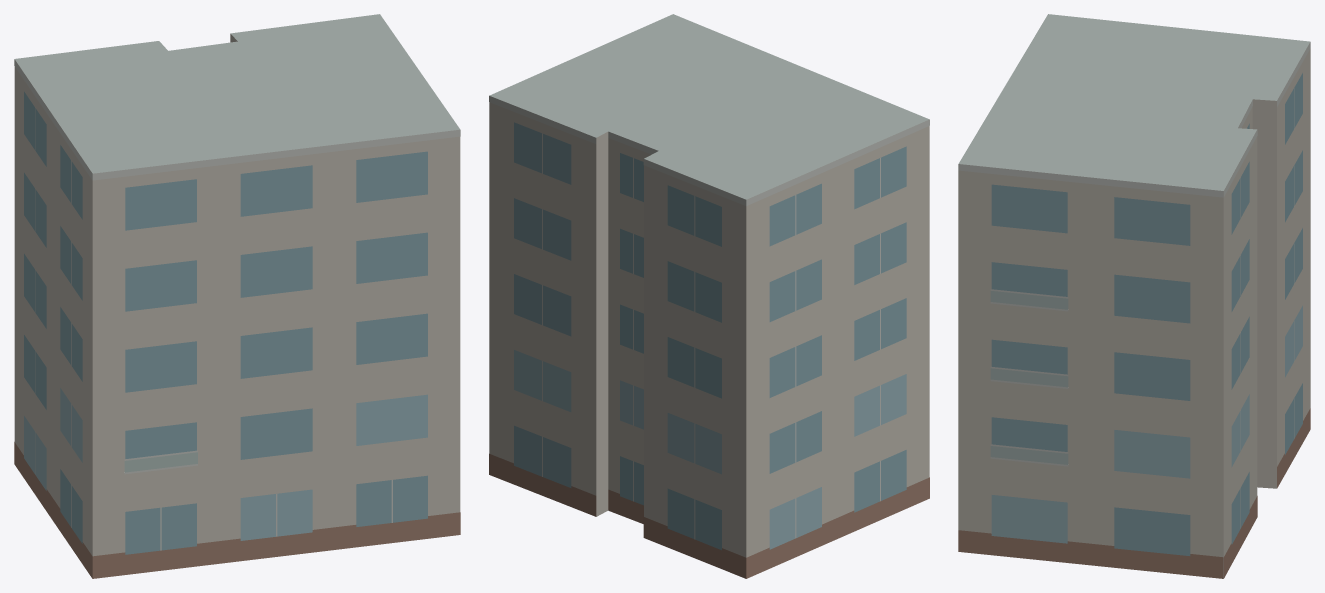
File: survey-upis-32939368.glb
The picture shows the model from 3 angles, left to right: view 1: azimuth 30°, elevation 25°; view 2: azimuth 150°, elevation 25°; view 3: azimuth 270°, elevation 25°; orthographic projection. The views are drawn at different scales.
Visible parts, largest first — view 1: survey-upis-32939368.tmp; view 2: survey-upis-32939368.tmp; view 3: survey-upis-32939368.tmp.
Boxes of the visible parts, left/top/right/bottom form: survey-upis-32939368.tmp: left=14, top=14, right=460, bottom=578; survey-upis-32939368.tmp: left=489, top=14, right=929, bottom=578; survey-upis-32939368.tmp: left=958, top=14, right=1310, bottom=578.
Bounding box in the file's own units: 14.11 × 14.4 × 11.86.
